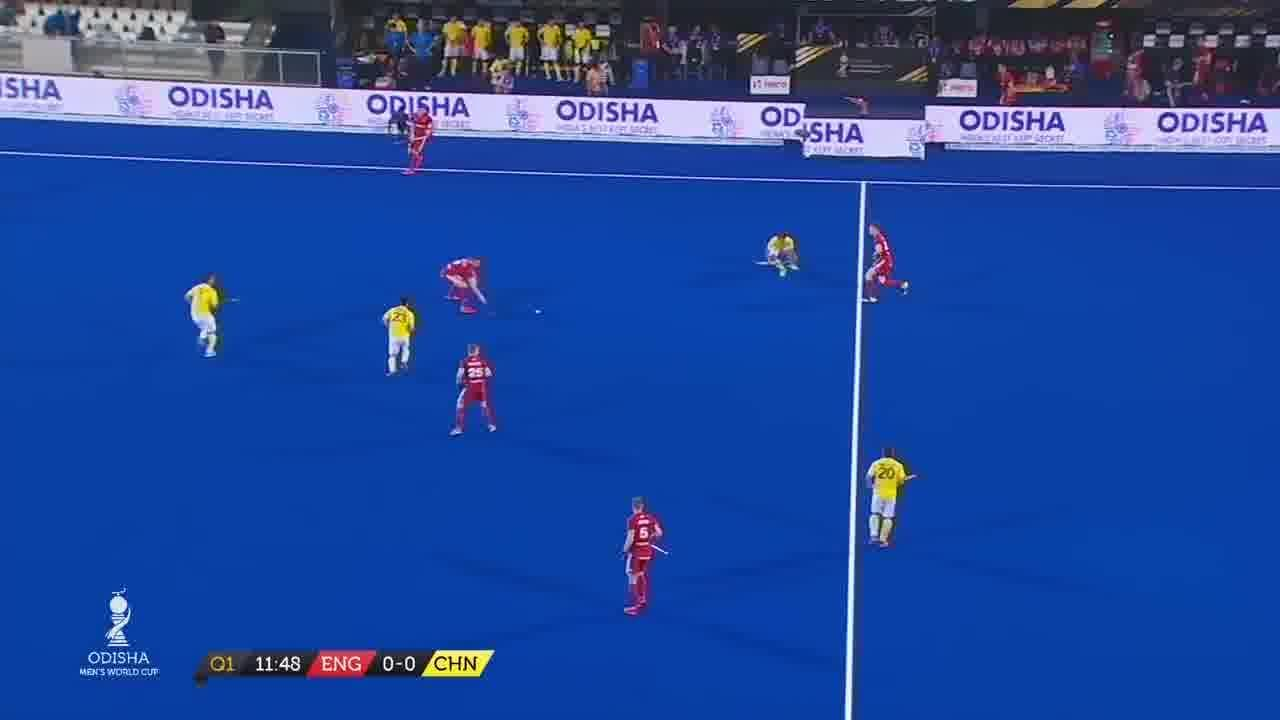ball: (530, 302, 543, 320)
